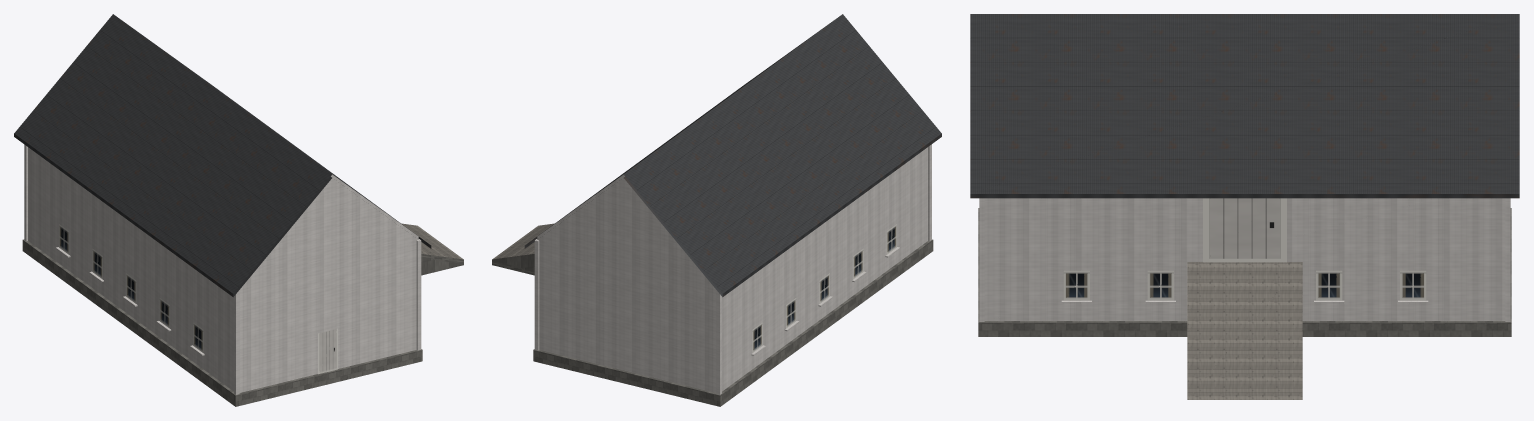
Rendered from barn.glb.
3 views of the same model, side by side, from view 1: azimuth 30°, elevation 25°; view 2: azimuth 150°, elevation 25°; view 3: azimuth 270°, elevation 25° (orthographic). The views are drawn at different scales.
Visible parts, largest first — view 1: barn_LOD0; view 2: barn_LOD0; view 3: barn_LOD0.
Part boxes in pixels (x1,y1,x2,y2): barn_LOD0: [14, 14, 463, 406]; barn_LOD0: [492, 14, 941, 406]; barn_LOD0: [970, 14, 1519, 399].
Size of what is drawn, in the model's own units: 17.45 by 11.15 by 20.9.
7 materials, 7 textured.
